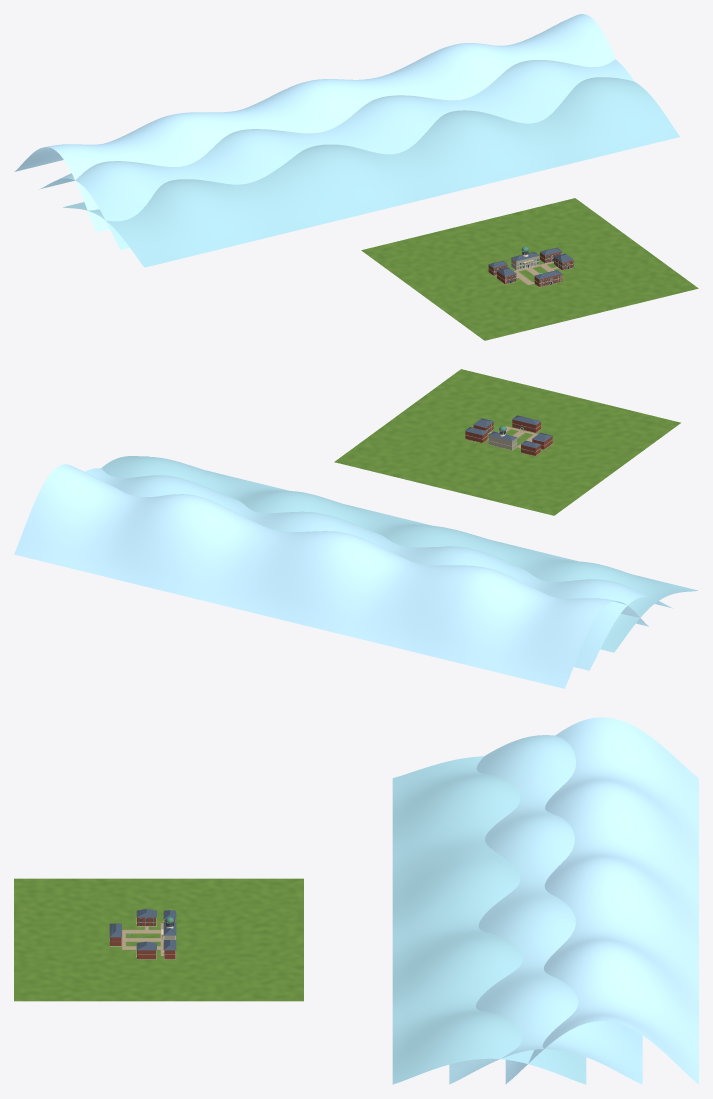
The model's file is village.glb.
3 views of the same model, one above another, from view 1: azimuth 30°, elevation 25°; view 2: azimuth 150°, elevation 25°; view 3: azimuth 270°, elevation 25° (orthographic). The views are drawn at different scales.
Visible parts, largest first — view 1: Village architecture and landscape, Campus Terrain rochester.001; view 2: Village architecture and landscape, Campus Terrain rochester.001; view 3: Village architecture and landscape, Campus Terrain rochester.001.
Boxes of the visible parts, x1,y1,x2,y2 form: Village architecture and landscape: [14, 14, 679, 287]; Campus Terrain rochester.001: [361, 198, 698, 340]; Village architecture and landscape: [14, 415, 697, 688]; Campus Terrain rochester.001: [334, 369, 680, 515]; Village architecture and landscape: [109, 717, 698, 1084]; Campus Terrain rochester.001: [14, 878, 303, 1001].
Bounding box in the file's own units: 450 × 43.88 × 425.
